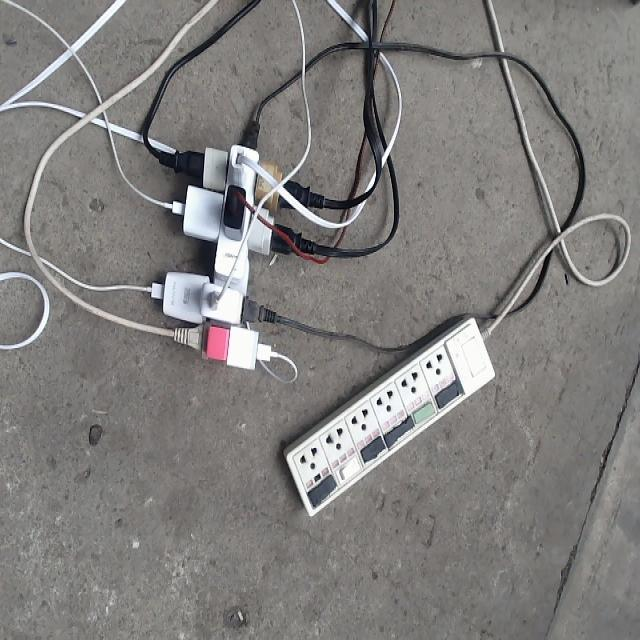-: (142, 115, 328, 369)
